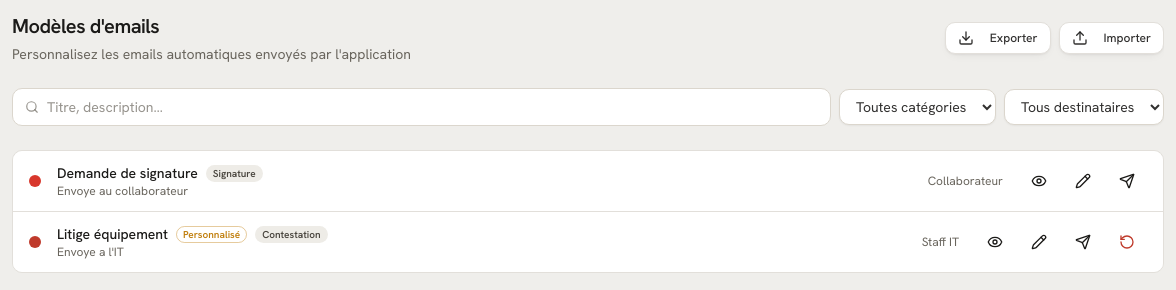
Test: TemplatesPage › filtre la liste par catégorie
Expected: the text "Demande de signature" is shown, [57,163,198,183]
Step 1. Select "Contestation" in the dropdown named "Filtrer par catégorie" → (918, 107), box [839,89,996,125]
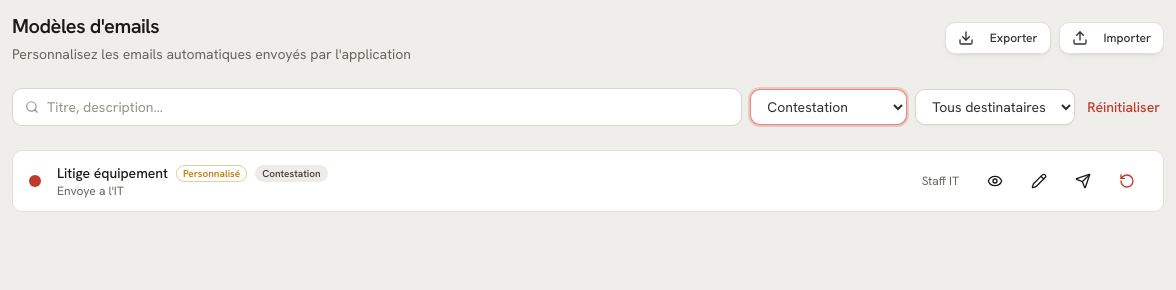
Expected: the text "Litige équipement" is shown, [57,163,168,183]
Expected: the text "Demande de signature" is gone
